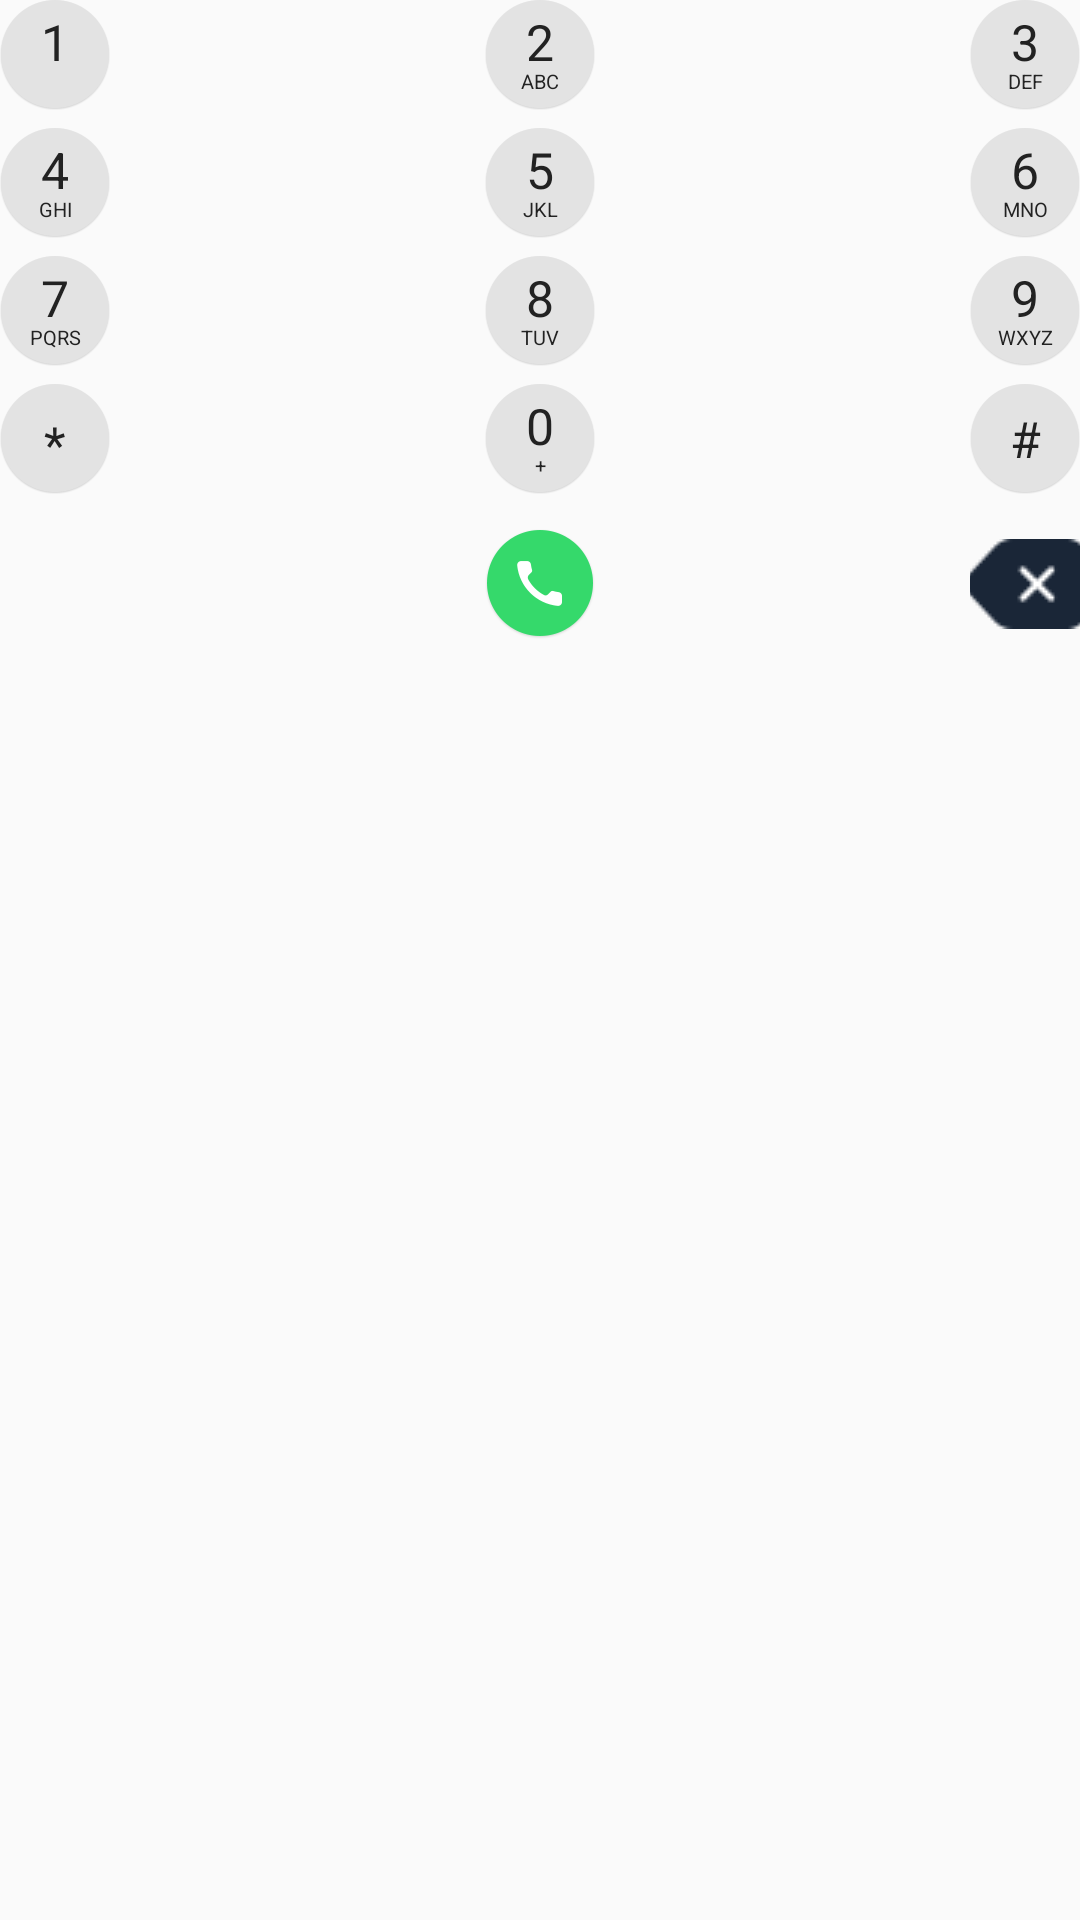

Icon bounding boxes for this 1080*1920 phone screenshot, format (x1, y1, x2, y2):
key call: (487, 530, 593, 637)
key detele: (970, 539, 1080, 629)
